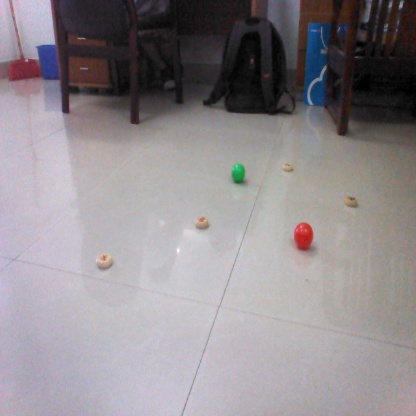ball: (292, 219, 315, 246), (229, 162, 248, 183)
chess: (95, 252, 115, 271), (194, 213, 215, 231), (343, 193, 361, 209), (280, 160, 298, 174)
